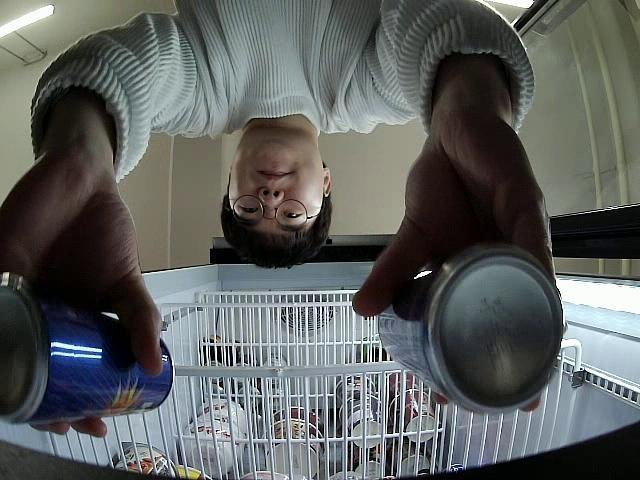16_hot6: (380, 250, 564, 414), (0, 282, 175, 423)
